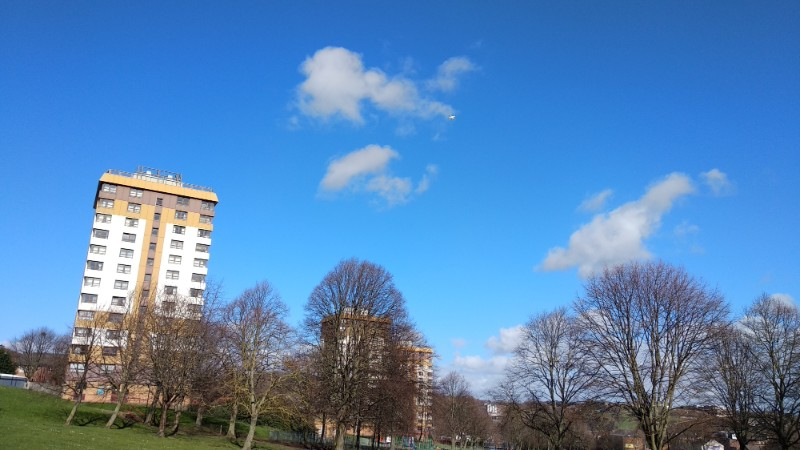drone: (447, 114, 458, 121)
